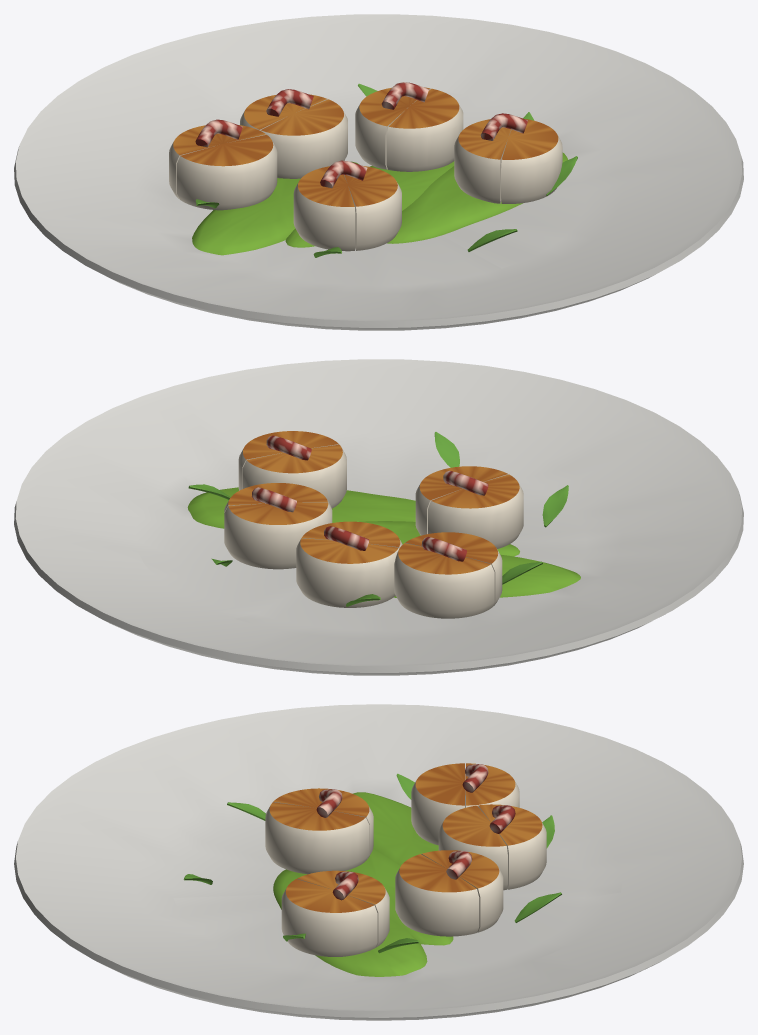
Rendered from dish-scallops-lod0.glb.
The picture shows the model from 3 angles, top to bottom: view 1: azimuth 30°, elevation 25°; view 2: azimuth 150°, elevation 25°; view 3: azimuth 270°, elevation 25°; orthographic projection.
Visible parts, largest first — view 1: scallops.lod0__table porcelain, scallops.lod0__food, scallops.lod0__food glaze; view 2: scallops.lod0__table porcelain, scallops.lod0__food, scallops.lod0__food glaze; view 3: scallops.lod0__table porcelain, scallops.lod0__food, scallops.lod0__food glaze.
Part boxes in pixels (box(x1,y1,x2,y2)): scallops.lod0__table porcelain: box(14, 14, 743, 330); scallops.lod0__food: box(169, 82, 577, 257); scallops.lod0__food glaze: box(192, 152, 567, 255); scallops.lod0__table porcelain: box(14, 359, 743, 675); scallops.lod0__food: box(188, 431, 568, 618); scallops.lod0__food glaze: box(187, 487, 580, 597); scallops.lod0__table porcelain: box(14, 704, 743, 1020); scallops.lod0__food: box(183, 763, 561, 956); scallops.lod0__food glaze: box(273, 792, 453, 976).
Size of the model in its own units: 0.27 by 0.0385 by 0.27.
